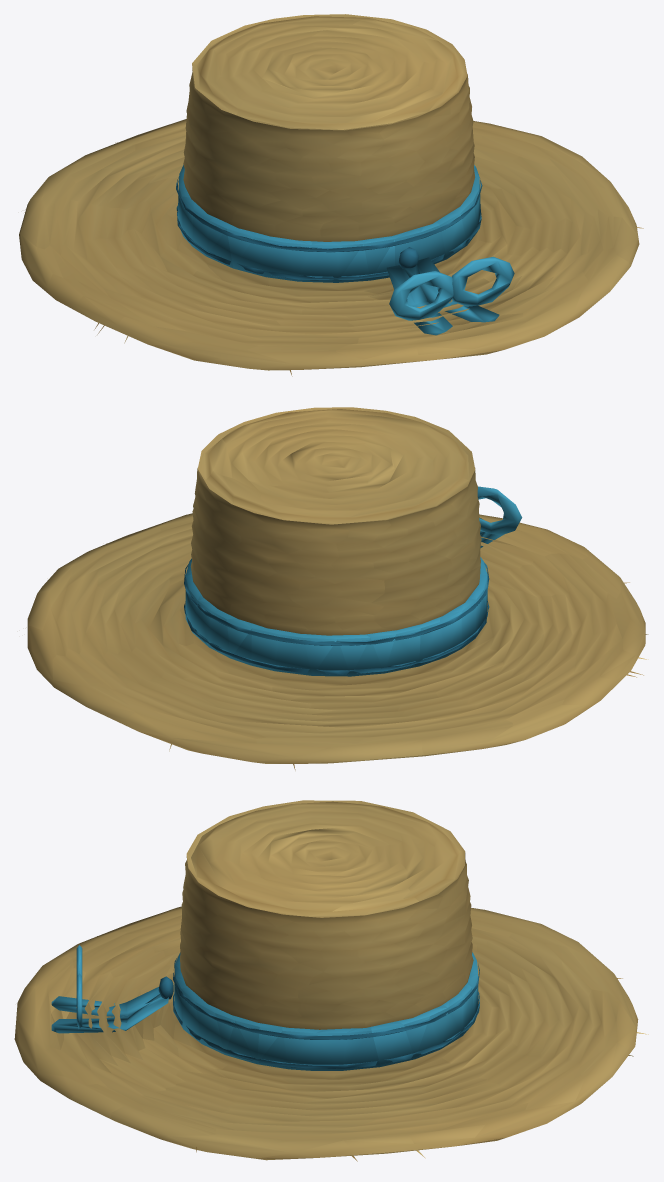
File: shore_sun_hat_lod2.glb
3 views of the same model, one above another, from view 1: azimuth 30°, elevation 25°; view 2: azimuth 150°, elevation 25°; view 3: azimuth 270°, elevation 25° (orthographic).
Visible parts, largest first — view 1: shore_sun_hat.001; view 2: shore_sun_hat.001; view 3: shore_sun_hat.001.
Part boxes in pixels (<box>): shore_sun_hat.001: <box>19,14,643,376</box>; shore_sun_hat.001: <box>27,407,648,770</box>; shore_sun_hat.001: <box>14,800,648,1161</box>.
Bounding box in the file's own units: 49.27 × 15.26 × 49.1.
